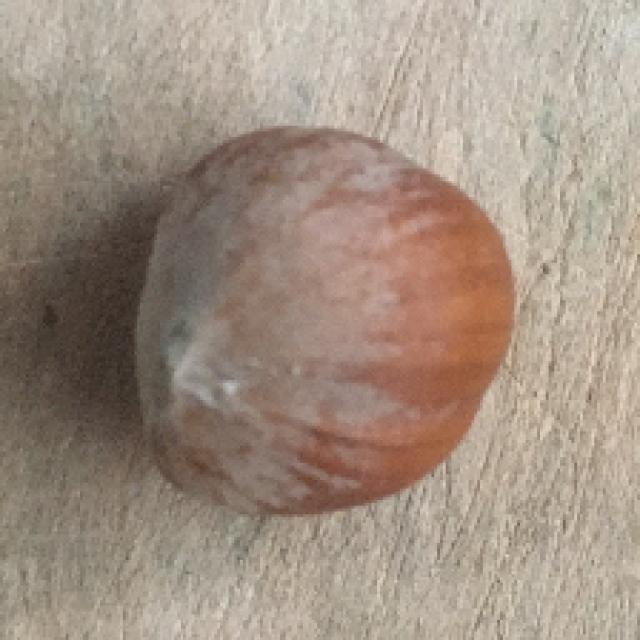qualityHazelnut: (142, 123, 514, 518)
